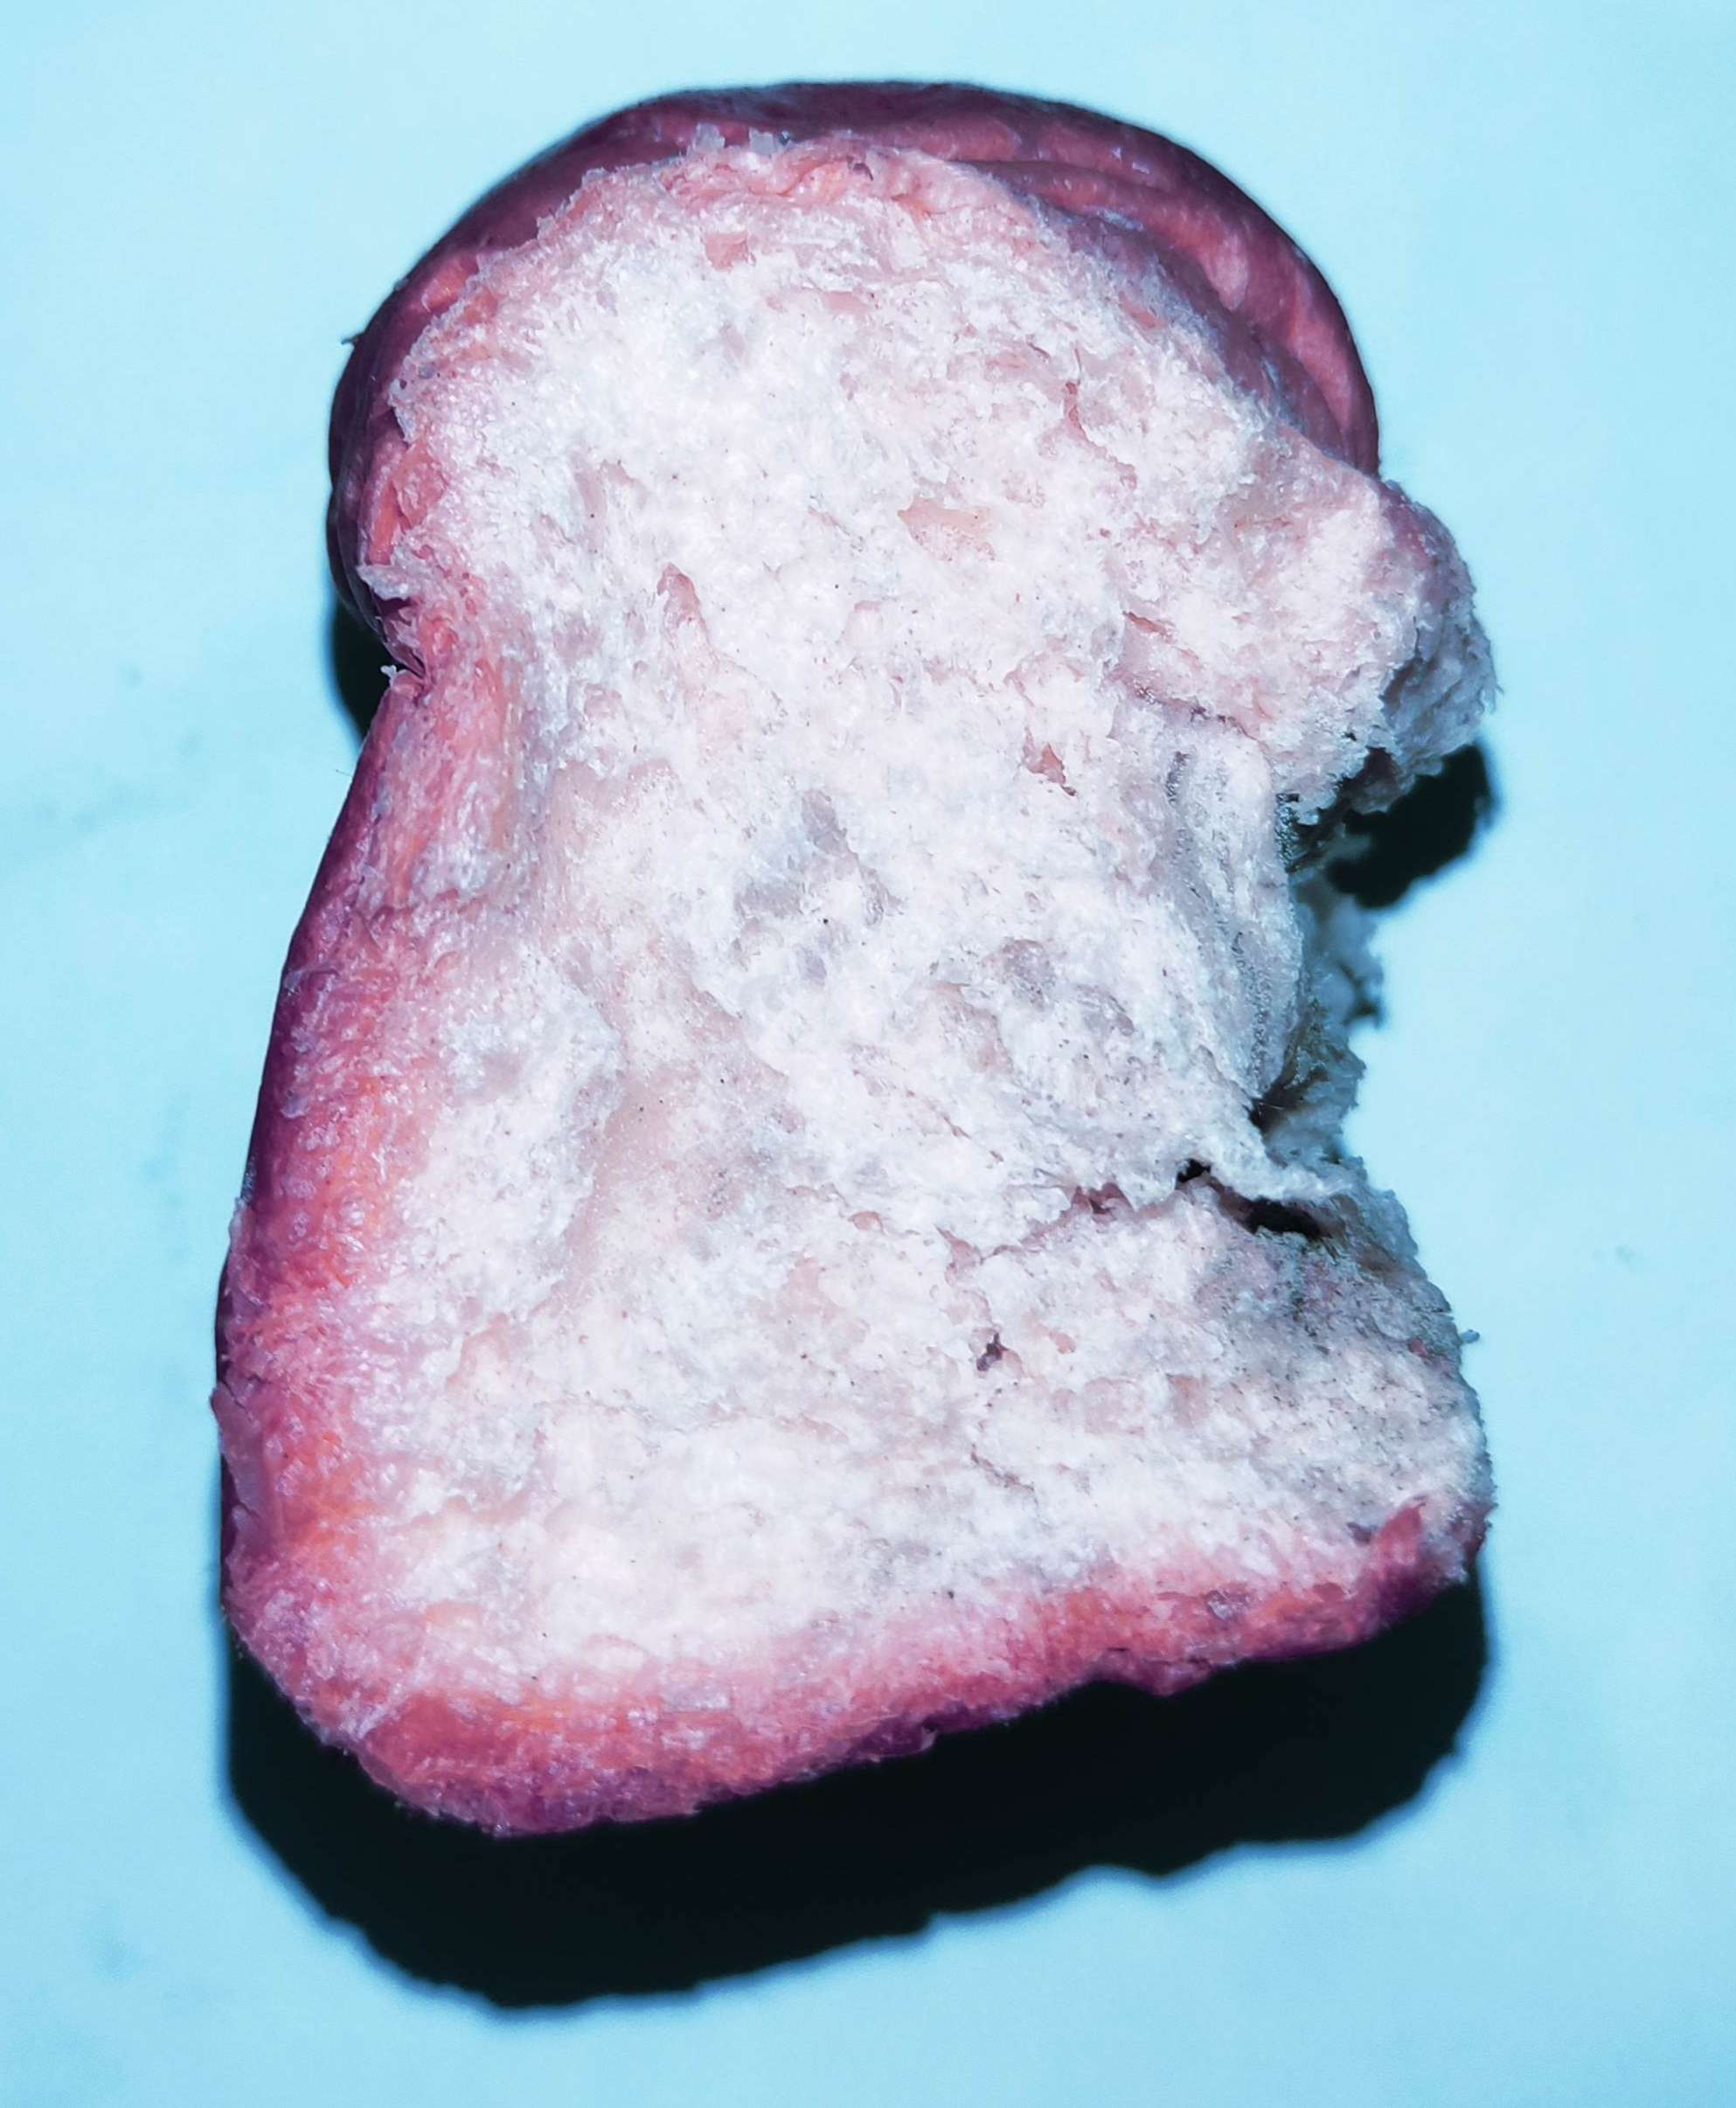mold_bread: (1167, 718, 1345, 1096), (1365, 506, 1496, 767), (471, 627, 578, 928), (932, 928, 1147, 1077), (1216, 1096, 1326, 1355), (1389, 1257, 1463, 1539), (748, 776, 874, 937), (1326, 1161, 1389, 1345)
